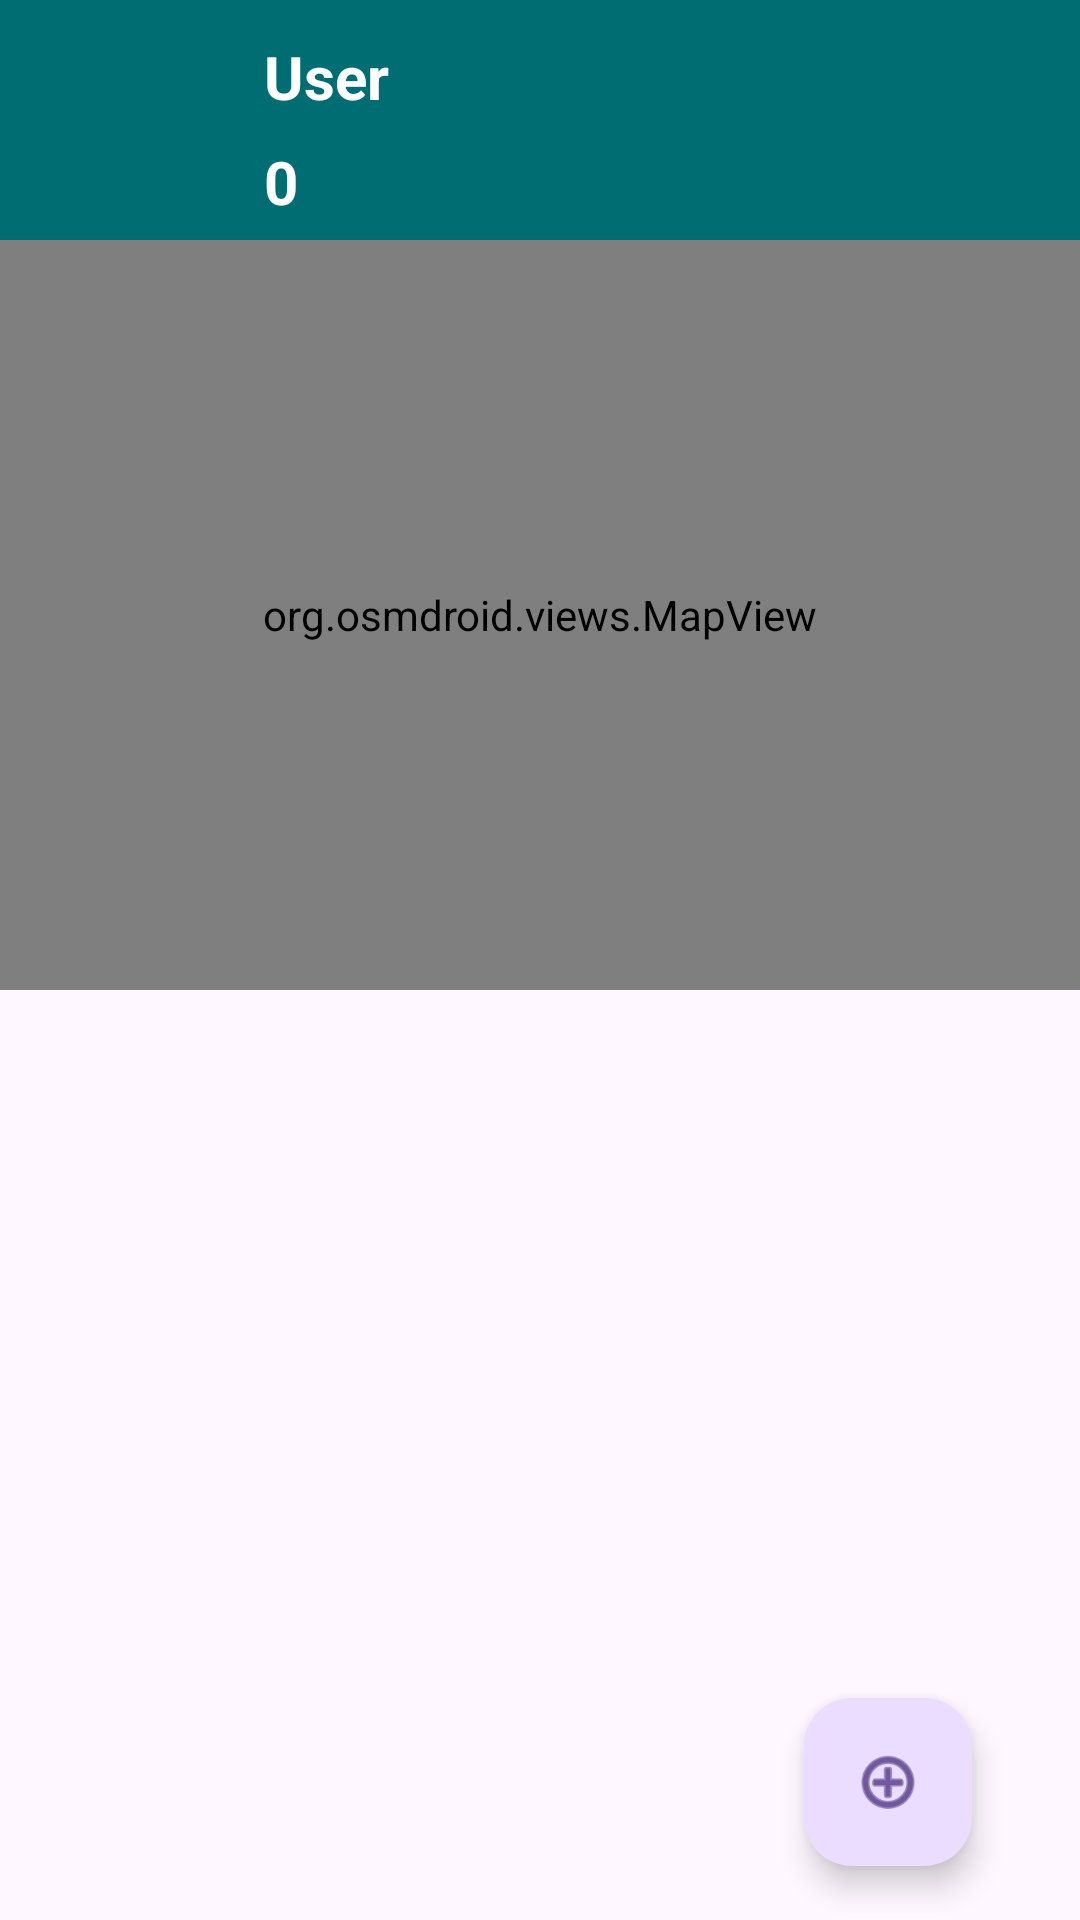

Icons on this 1080px x 1920px Android screen, each with its box as (x1, y1, x2, y2):
add: (804, 1698, 972, 1866)
